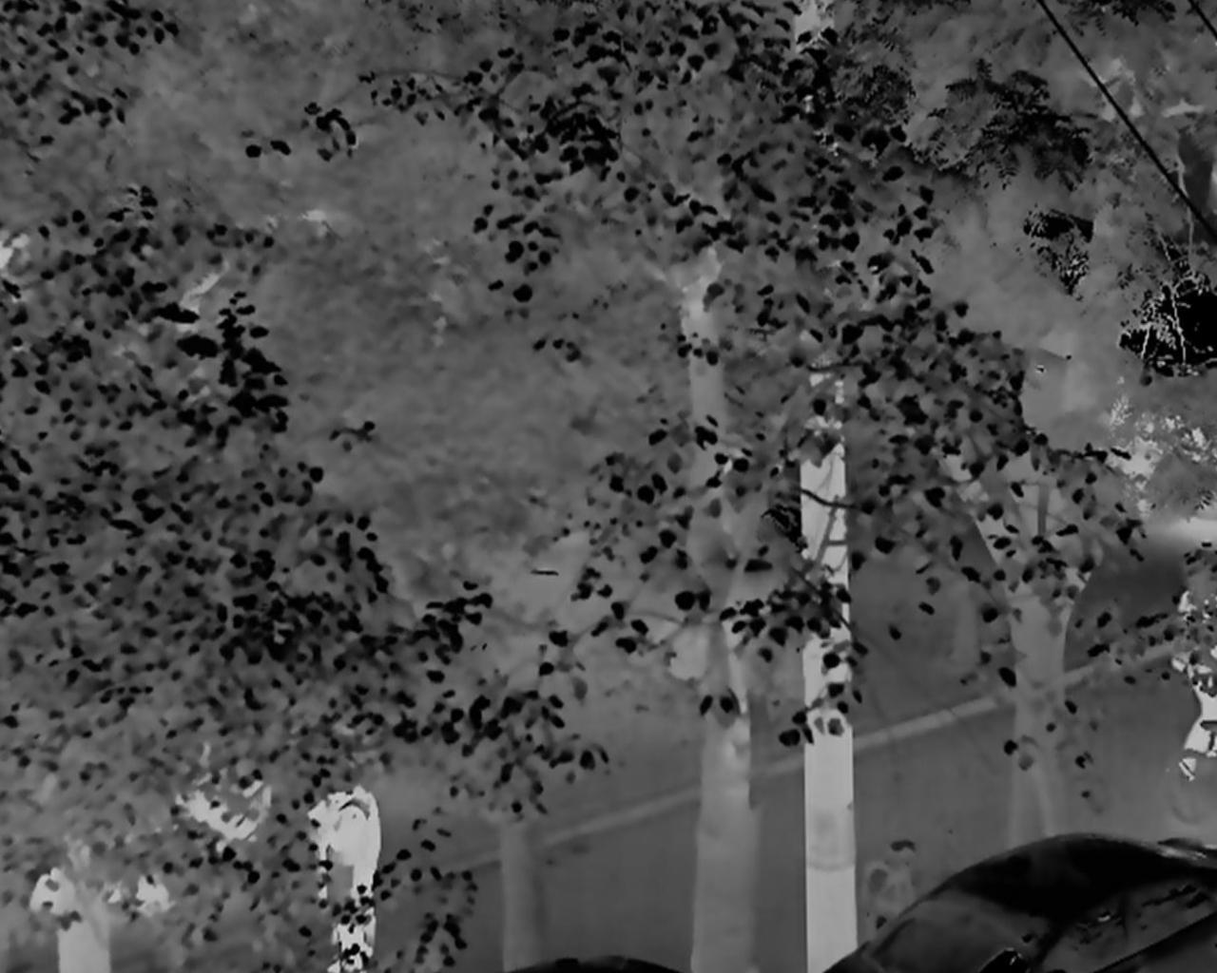person: (306, 782, 389, 963), (1176, 580, 1217, 779)
